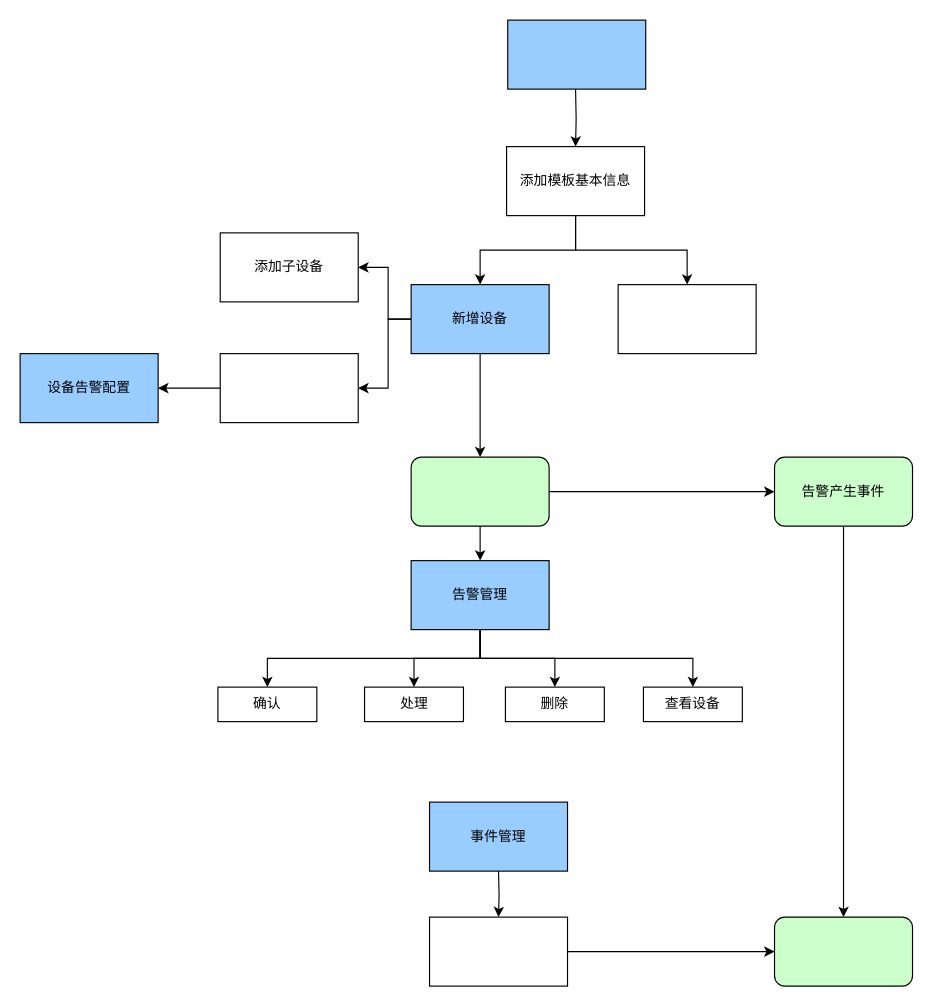
Image size: 933x1006. Some labels were removed from this diagram. Each missing label, with the centre of its shape:
"事件按处理方案进行处理" goes at point (843, 951).
"新增各类事件的处理方案" goes at point (498, 951).
"新增设备模板" goes at point (576, 54).
"模板告警配置" goes at point (686, 318).
"添加设备基本信息" goes at point (288, 387).
"设备触发告警" goes at point (479, 491).
